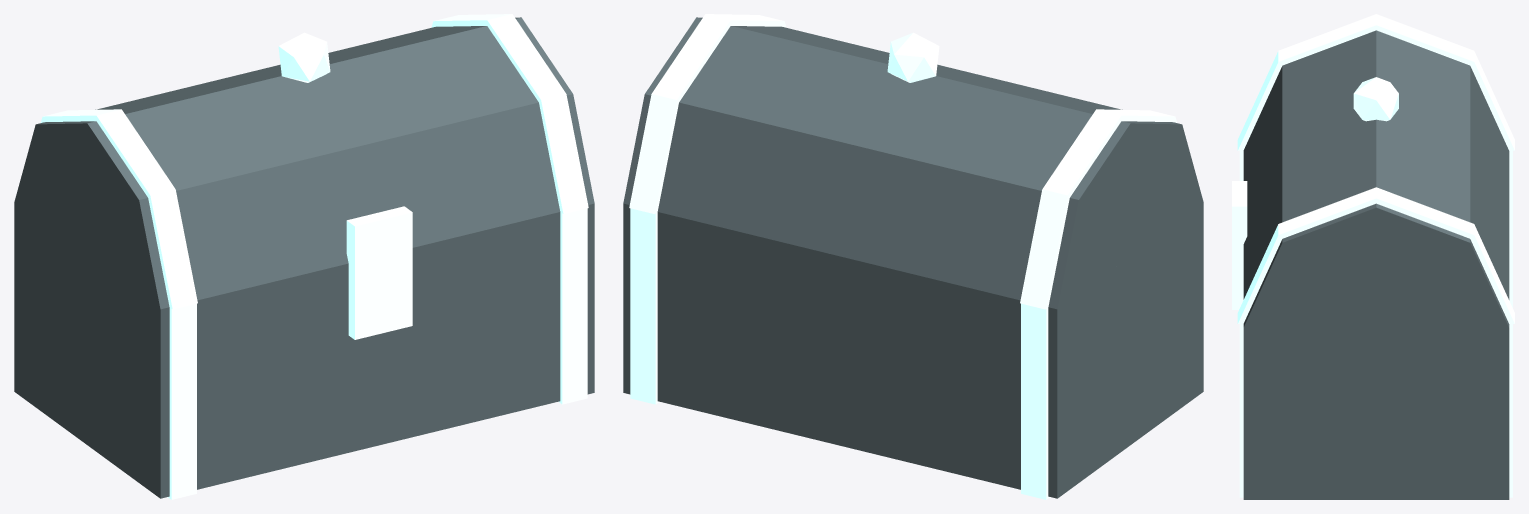
Rendered from chest_hidden.glb.
The picture shows the model from 3 angles, left to right: view 1: azimuth 30°, elevation 25°; view 2: azimuth 150°, elevation 25°; view 3: azimuth 270°, elevation 25°; orthographic projection. The views are drawn at different scales.
Visible parts, largest first — view 1: Lid_mesh, Body; view 2: Body, Lid_mesh; view 3: Lid_mesh, Body.
Boxes of the visible parts, x1,y1,x2,y2 form: Lid_mesh: (14,14,594,309); Body: (14,202,594,499); Body: (623,202,1203,499); Lid_mesh: (623,14,1203,309); Lid_mesh: (1232,14,1514,327); Body: (1232,149,1512,499).
Size of the model in its own units: 1.2 by 0.955 by 0.745.
